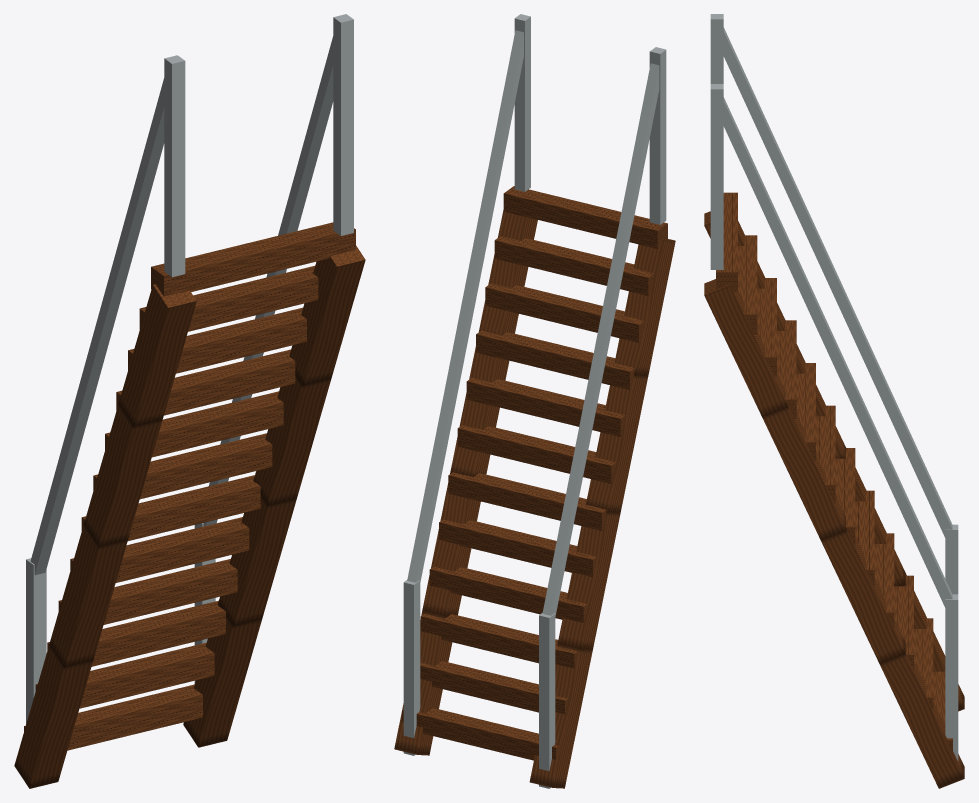
File: modular-survival-base-builder-ladder-stair-d80e1da3__24190.glb
3 views of the same model, side by side, from view 1: azimuth 30°, elevation 25°; view 2: azimuth 150°, elevation 25°; view 3: azimuth 270°, elevation 25° (orthographic). The views are drawn at different scales.
Parts seen in each view (by area): view 1: ladder-stair; view 2: ladder-stair; view 3: ladder-stair.
Boxes of the visible parts, <box> form: ladder-stair: <box>14,14,365,788</box>; ladder-stair: <box>394,14,675,788</box>; ladder-stair: <box>704,14,964,788</box>.
Size of the model in its own units: 0.8241 by 3.27 by 1.11.
Materials: 2 (1 with a texture image).
